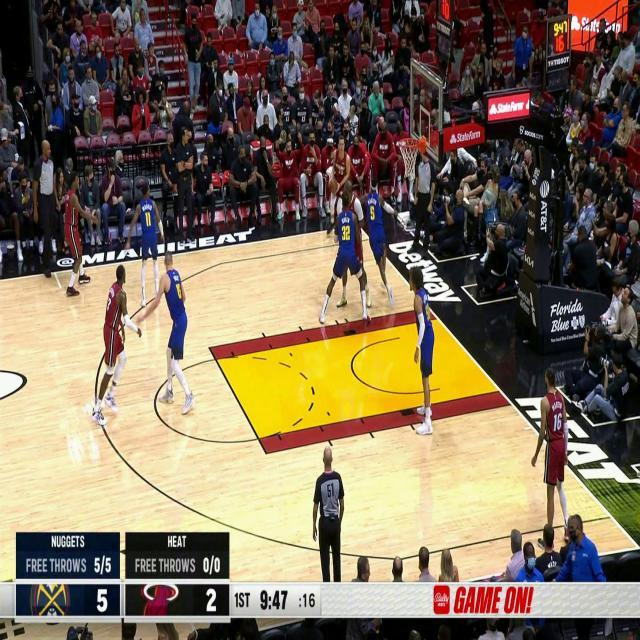rim: (328, 176, 338, 193)
